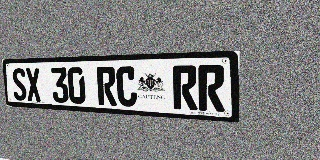0: (67, 67, 86, 104)
3: (51, 67, 69, 103)
C: (116, 66, 137, 107)
R: (198, 65, 225, 112), (173, 65, 198, 110), (96, 67, 117, 106)
S: (12, 68, 27, 101)
X: (25, 68, 42, 102)
